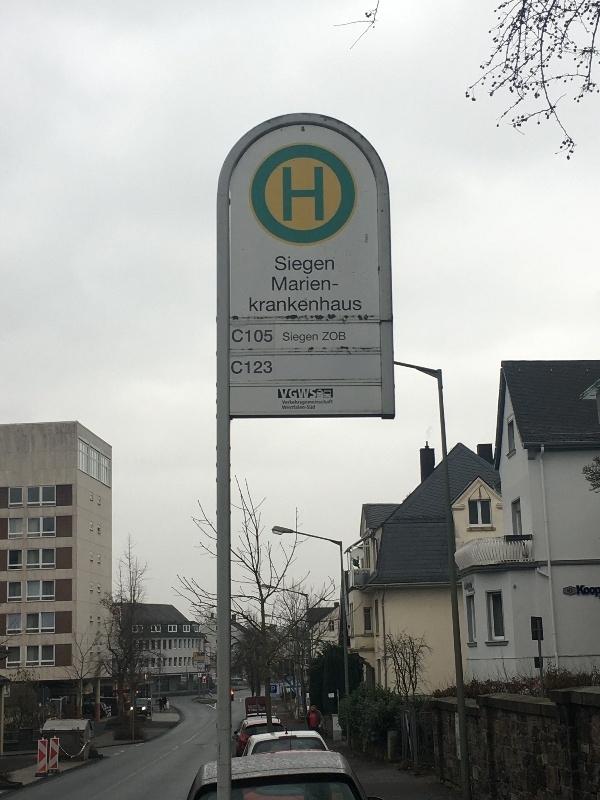text: (289, 167, 304, 222), (305, 167, 320, 222), (289, 255, 304, 275), (305, 255, 320, 275), (321, 255, 335, 275), (283, 167, 288, 222), (275, 255, 288, 275), (257, 328, 273, 344), (273, 276, 288, 292), (289, 276, 304, 292), (305, 276, 320, 292), (321, 276, 336, 292), (241, 328, 256, 344), (257, 360, 273, 375), (257, 297, 272, 312), (273, 297, 288, 312), (289, 297, 304, 312), (305, 297, 320, 312), (321, 297, 336, 312), (337, 297, 352, 312), (241, 360, 256, 375), (289, 387, 304, 400), (289, 332, 304, 344), (321, 167, 324, 222), (305, 332, 318, 344), (305, 387, 317, 400), (353, 297, 362, 312), (231, 360, 240, 375), (323, 331, 336, 341), (232, 328, 240, 344), (280, 387, 288, 400), (250, 297, 256, 312), (337, 331, 346, 341), (289, 400, 304, 406), (305, 400, 320, 406), (289, 405, 304, 410), (321, 400, 333, 406), (283, 332, 288, 344), (305, 405, 315, 410), (282, 400, 288, 406), (337, 276, 339, 292), (282, 405, 288, 410), (273, 686, 276, 693)
